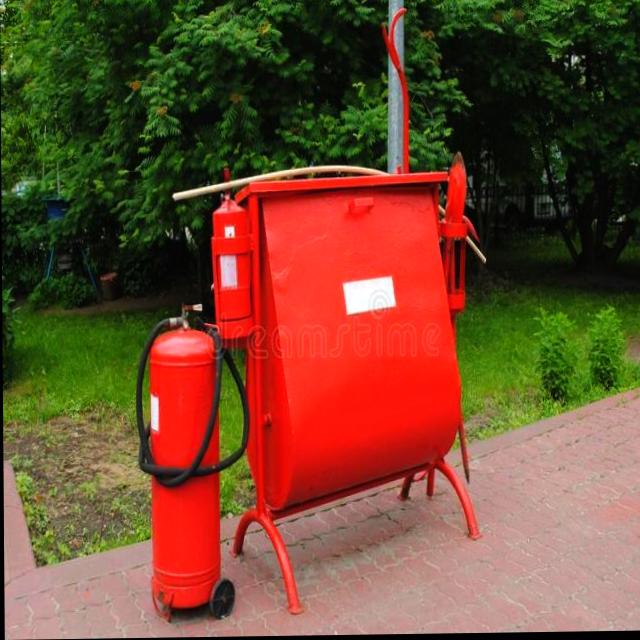FireExtinguisher: (131, 295, 252, 619), (197, 162, 258, 345)
